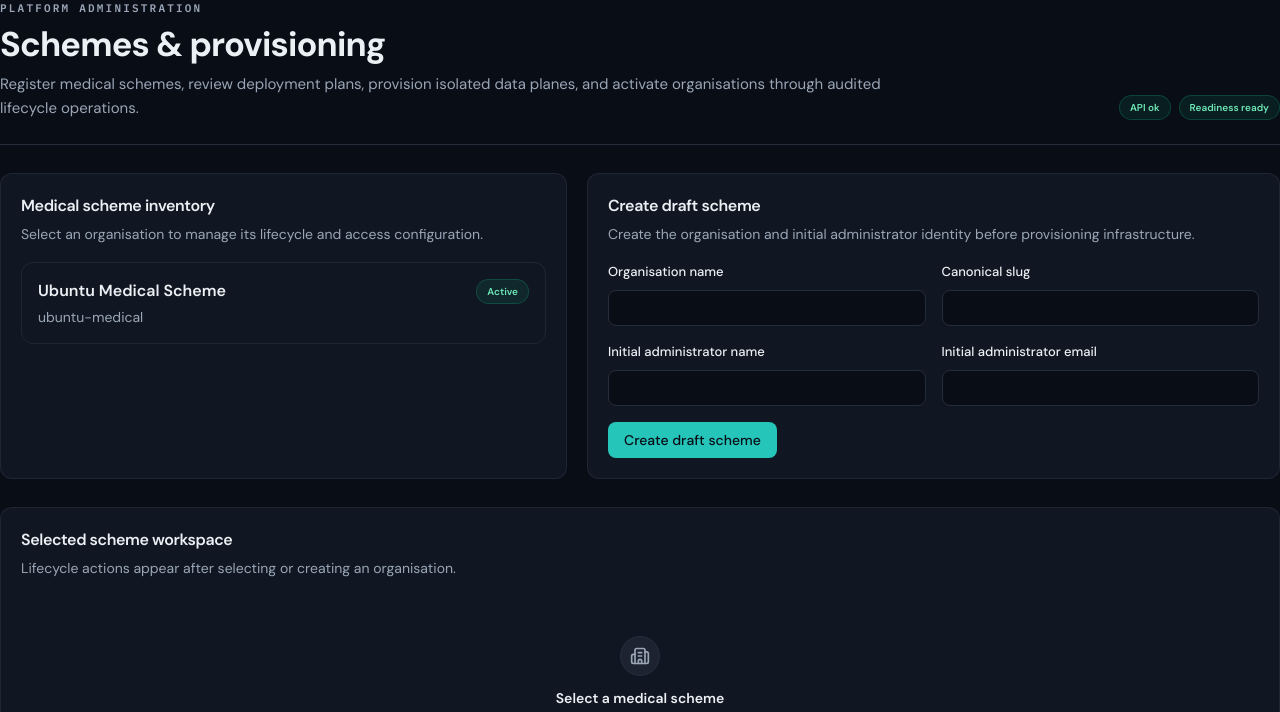
Test case: Platform operations workspaces › preserves the draft organisation payload
Check: the text "Ubuntu Medical Scheme" is shown, box [38,278,226,302]
Type "New Medical Scheme" into the field labelled "Organisation name".
click(767, 308); type("New Medical Scheme")  # box [608,290,926,326]
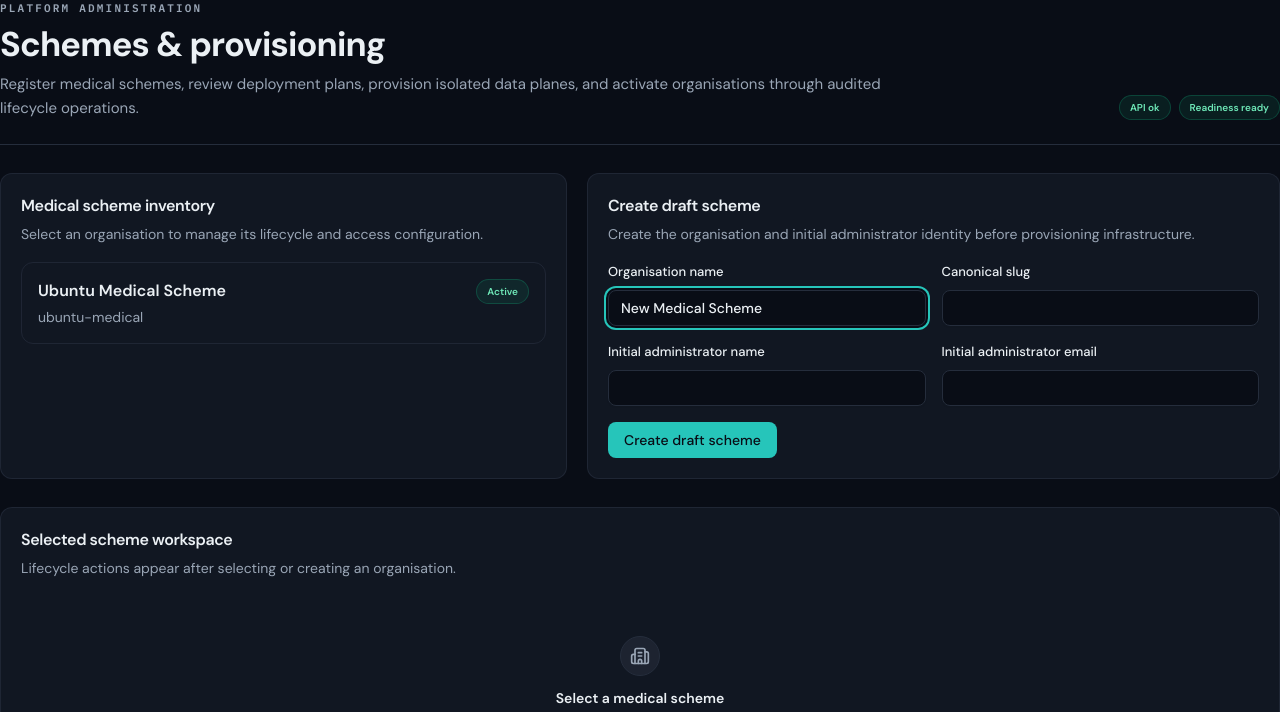
Type "new-medical" into the field labelled "Canonical slug".
click(1100, 308); type("new-medical")  # box [942,290,1259,326]
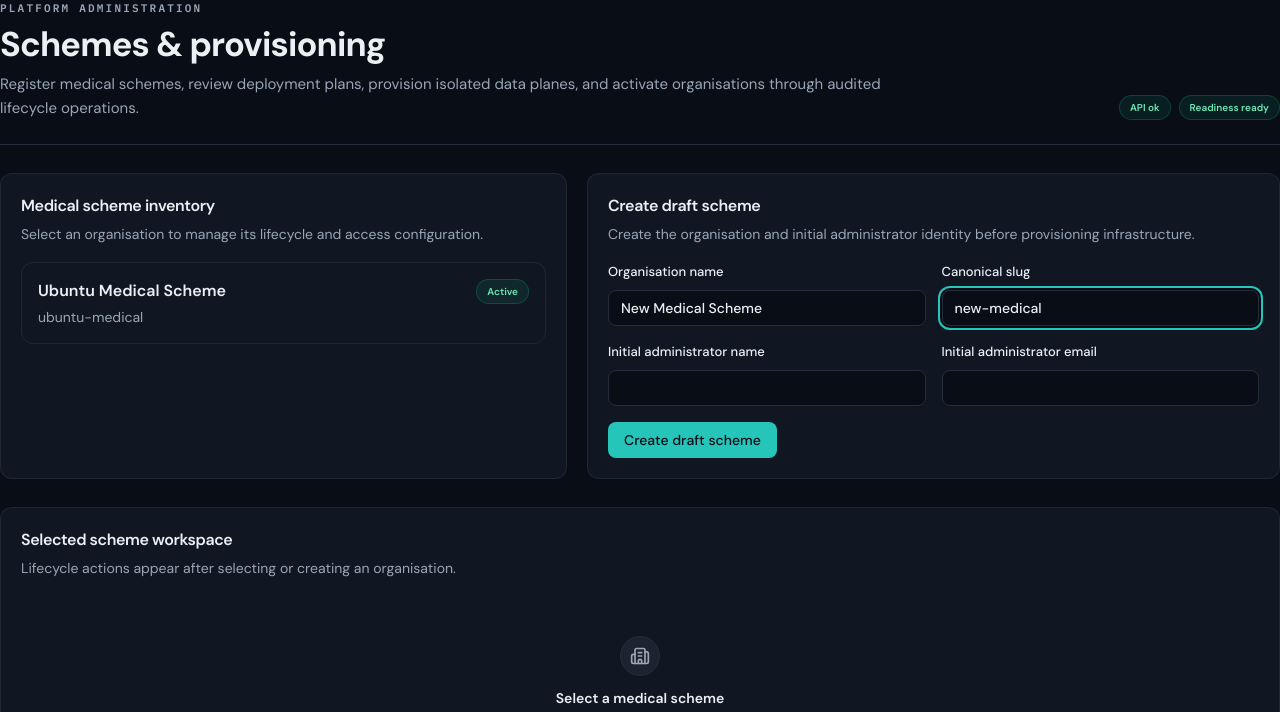
Type "Nandi Dube" into the field labelled "Initial administrator name".
click(767, 388); type("Nandi Dube")  # box [608,370,926,406]
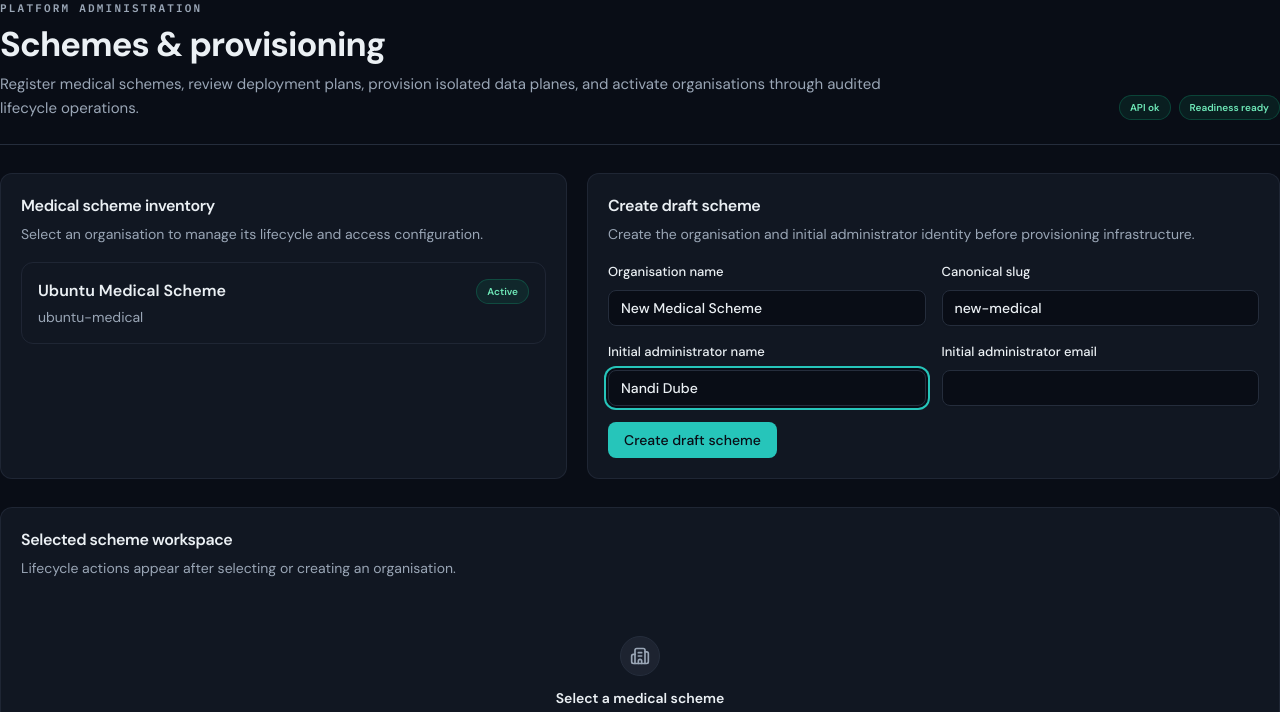
Type "nandi@example.com" into the field labelled "Initial administrator email".
click(1100, 388); type("nandi@example.com")  # box [942,370,1259,406]
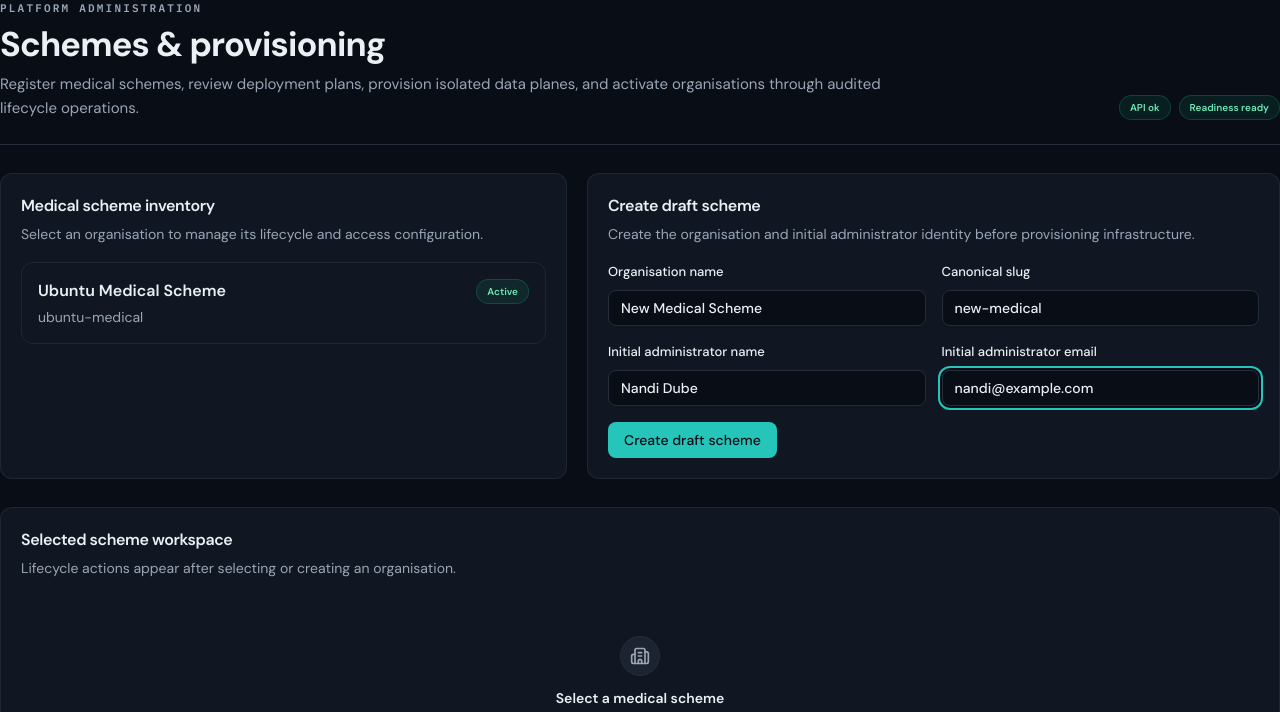
Click the button "Create draft scheme".
click(692, 440)  # box [608,422,777,458]
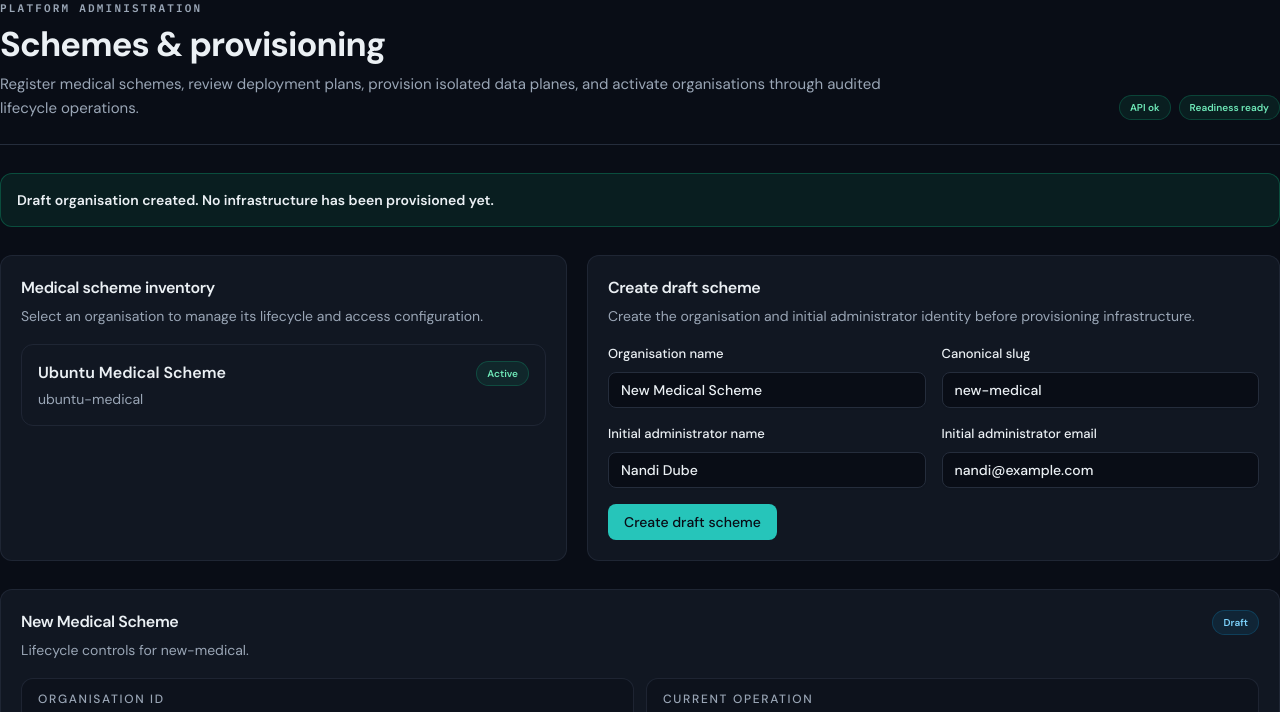
Check: the text "Draft organisation created" is shown, box [17,190,494,208]
